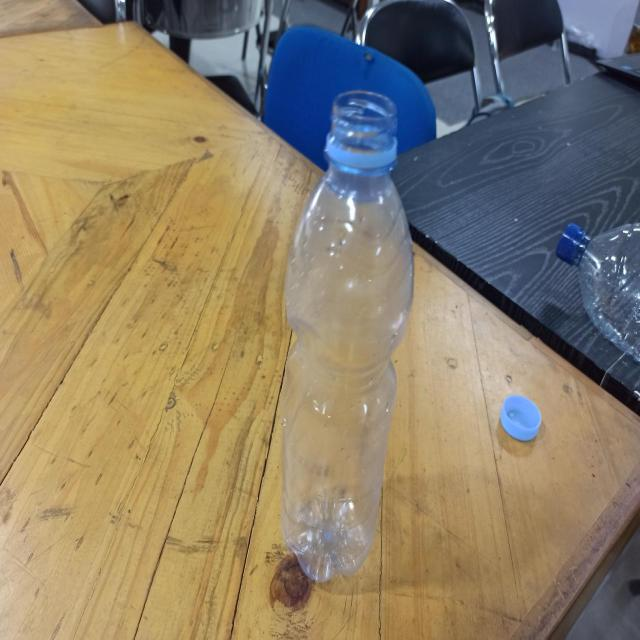BotolPlastik: (279, 89, 415, 582), (544, 160, 640, 370)
